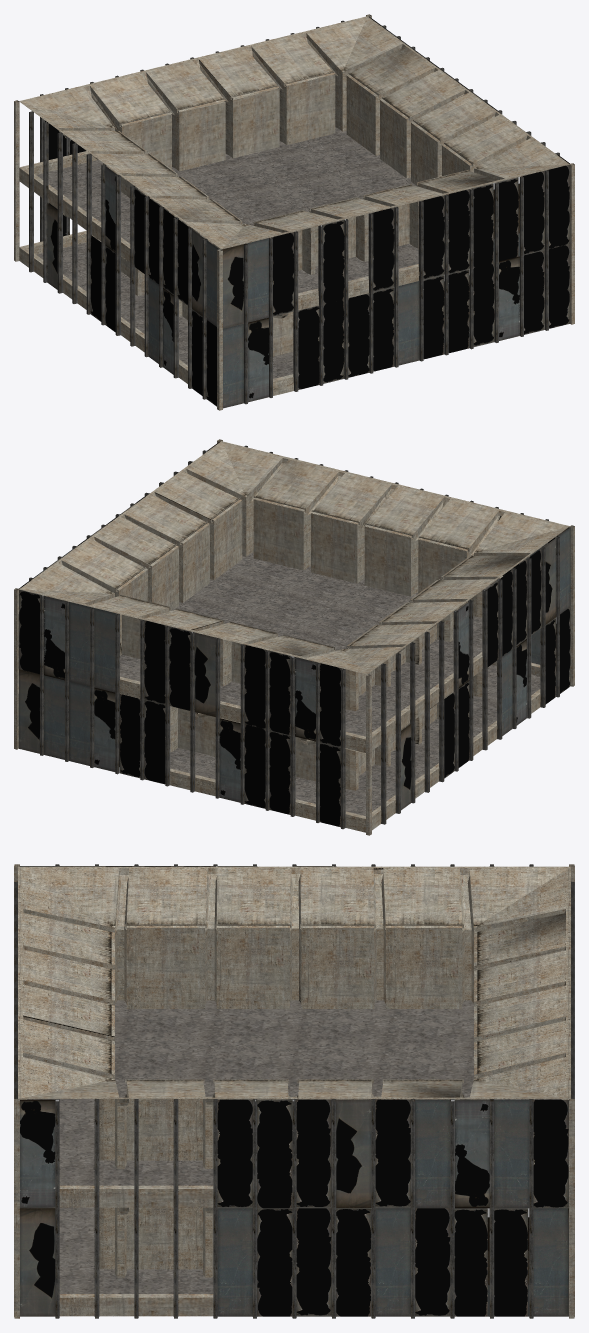
File: Build2_el4.fbx
The picture shows the model from 3 angles, top to bottom: view 1: azimuth 30°, elevation 25°; view 2: azimuth 150°, elevation 25°; view 3: azimuth 270°, elevation 25°; orthographic projection. The views are drawn at different scales.
Visible parts, largest first — view 1: 2-3floor; view 2: 2-3floor; view 3: 2-3floor.
Boxes of the visible parts, x1,y1,x2,y2 form: 2-3floor: (14, 14, 574, 410); 2-3floor: (14, 439, 574, 835); 2-3floor: (14, 864, 574, 1318).
Size of the model in its own units: 35.67 by 15.24 by 35.67.
